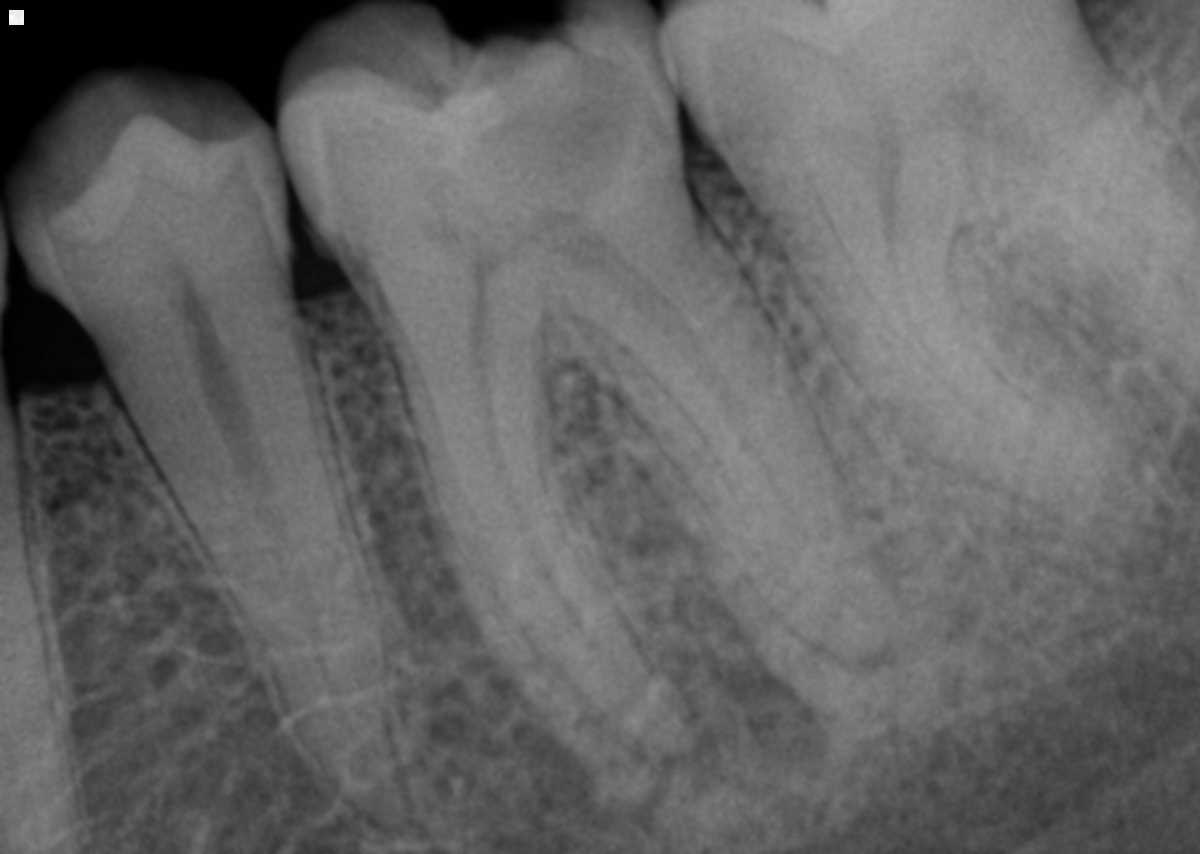Apical Lesion: (516, 647, 830, 832), (865, 546, 986, 676)
Distal Canal: (639, 294, 858, 612)
Distal Root: (576, 201, 889, 667), (992, 66, 1200, 403)
Main Canal: (195, 342, 368, 760)
Main Root: (116, 314, 408, 831), (0, 424, 79, 852)
Mesial Canal: (828, 226, 1168, 576), (471, 353, 644, 692)
Mesial Root: (390, 339, 700, 759)
decay: (423, 47, 644, 257)
